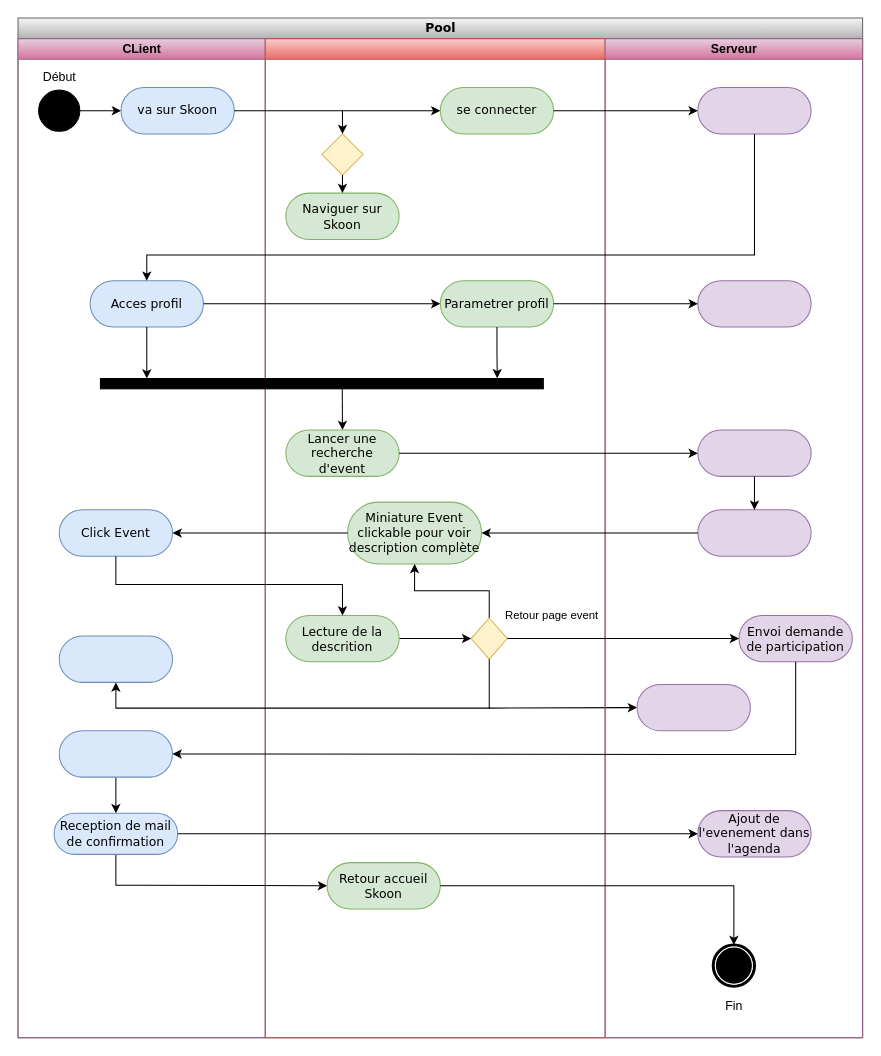
Some shapes in this 881 by 1056 pixel diagram are drawn without their labels. Here are the shapes that lost their labels. From the top down, the box of each, then its label:
(697, 87, 811, 134): Rentrer I.D et M.P
(697, 280, 811, 327): Nom, Prénom, Adresse...
(697, 429, 811, 476): Fetch trie event par localisation
(264, 38, 605, 1038): vue
(697, 509, 811, 556): Chargment des events triers
(58, 635, 173, 682): veux ajouter d'Event a ses favoris
(636, 683, 750, 731): Ajout des favoris au profil client
(58, 730, 173, 777): Confirmation de participation
